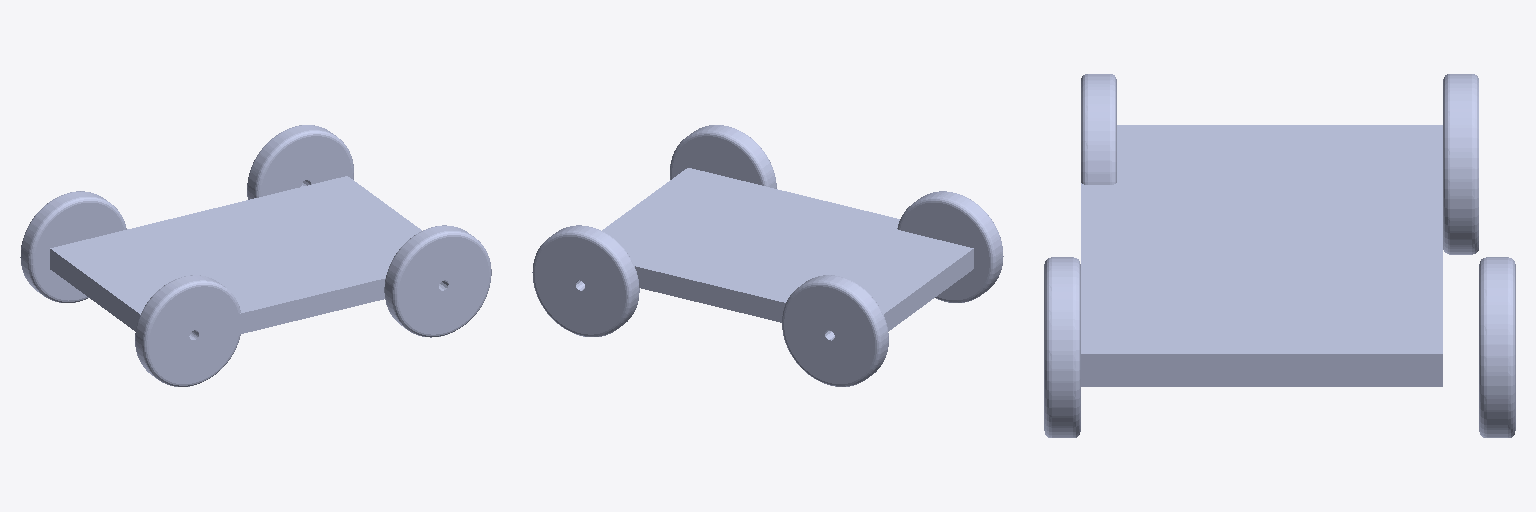
The robot description file, URDF, robot "Prototype_Assem_1":
<?xml version="1.0" encoding="utf-8"?>
<!-- This URDF was automatically created by SolidWorks to URDF Exporter! Originally created by [author] ([email redacted]) 
     Commit Version: 1.6.0-1-g15f4949  Build Version: 1.6.7594.29634
     For more information, please see http://wiki.ros.org/sw_urdf_exporter -->
<robot
  name="Prototype_Assem_1">
  <link
    name="base_link">
    <inertial>
      <origin
        xyz="0.0633399432951817 -0.115306777162767 0.0773215092552989"
        rpy="0 0 0" />
      <mass
        value="0.146073009183013" />
      <inertia
        ixx="0.000122971371729359"
        ixy="-2.52315784573037E-20"
        ixz="-2.94043958335381E-22"
        iyy="0.000268350561212543"
        iyz="7.38276631013834E-21"
        izz="0.000388834204788205" />
    </inertial>
    <visual>
      <origin
        xyz="0 0 0"
        rpy="0 0 0" />
      <geometry>
        <mesh
          filename="package://Prototype_Assem_1/meshes/base_link.STL" />
      </geometry>
      <material
        name="">
        <color
          rgba="0.792156862745098 0.819607843137255 0.933333333333333 1" />
      </material>
    </visual>
    <collision>
      <origin
        xyz="0 0 0"
        rpy="0 0 0" />
      <geometry>
        <mesh
          filename="package://Prototype_Assem_1/meshes/base_link.STL" />
      </geometry>
    </collision>
  </link>
  <link
    name="wheel_1_link">
    <inertial>
      <origin
        xyz="-2.08166817117217E-16 0.00500000000000017 1.80411241501588E-16"
        rpy="0 0 0" />
      <mass
        value="0.0191737468916469" />
      <inertia
        ixx="3.14423074657109E-06"
        ixy="-9.90329068367178E-21"
        ixz="6.79865277851786E-36"
        iyy="5.97552557291833E-06"
        iyz="-1.88627595496748E-21"
        izz="3.14423074657109E-06" />
    </inertial>
    <visual>
      <origin
        xyz="0 0 0"
        rpy="0 0 0" />
      <geometry>
        <mesh
          filename="package://Prototype_Assem_1/meshes/wheel_1_link.STL" />
      </geometry>
      <material
        name="">
        <color
          rgba="0.792156862745098 0.819607843137255 0.933333333333333 1" />
      </material>
    </visual>
    <collision>
      <origin
        xyz="0 0 0"
        rpy="0 0 0" />
      <geometry>
        <mesh
          filename="package://Prototype_Assem_1/meshes/wheel_1_link.STL" />
      </geometry>
    </collision>
  </link>
  <joint
    name="wheel_1_"
    type="continuous">
    <origin
      xyz="0.123339943295182 -0.0553067771627669 0.0773215092552989"
      rpy="0 -1.5707963267949 0" />
    <parent
      link="base_link" />
    <child
      link="wheel_1_link" />
    <axis
      xyz="0 1 0" />
  </joint>
  <link
    name="wheel_2_link">
    <inertial>
      <origin
        xyz="-1.38777878078145E-17 -0.00500000000000014 -1.16573417585641E-15"
        rpy="0 0 0" />
      <mass
        value="0.0191737468916469" />
      <inertia
        ixx="3.14423074657109E-06"
        ixy="-3.11535924767132E-37"
        ixz="-1.98766643320901E-36"
        iyy="5.97552557291834E-06"
        iyz="2.34745597615571E-22"
        izz="3.14423074657109E-06" />
    </inertial>
    <visual>
      <origin
        xyz="0 0 0"
        rpy="0 0 0" />
      <geometry>
        <mesh
          filename="package://Prototype_Assem_1/meshes/wheel_2_link.STL" />
      </geometry>
      <material
        name="">
        <color
          rgba="0.792156862745098 0.819607843137255 0.933333333333333 1" />
      </material>
    </visual>
    <collision>
      <origin
        xyz="0 0 0"
        rpy="0 0 0" />
      <geometry>
        <mesh
          filename="package://Prototype_Assem_1/meshes/wheel_2_link.STL" />
      </geometry>
    </collision>
  </link>
  <joint
    name="wheel_2"
    type="continuous">
    <origin
      xyz="0.123339943295182 -0.165306777162768 0.0773215092552989"
      rpy="0 0 0" />
    <parent
      link="base_link" />
    <child
      link="wheel_2_link" />
    <axis
      xyz="0 1 0" />
  </joint>
  <link
    name="wheel_3_link">
    <inertial>
      <origin
        xyz="6.93889390390723E-18 0.005 0"
        rpy="0 0 0" />
      <mass
        value="0.0191737468916469" />
      <inertia
        ixx="3.14423074657109E-06"
        ixy="-1.15737129950298E-22"
        ixz="1.05879118406788E-22"
        iyy="5.97552557291833E-06"
        iyz="8.00270033642477E-23"
        izz="3.14423074657109E-06" />
    </inertial>
    <visual>
      <origin
        xyz="0 0 0"
        rpy="0 0 0" />
      <geometry>
        <mesh
          filename="package://Prototype_Assem_1/meshes/wheel_3_link.STL" />
      </geometry>
      <material
        name="">
        <color
          rgba="0.792156862745098 0.819607843137255 0.933333333333333 1" />
      </material>
    </visual>
    <collision>
      <origin
        xyz="0 0 0"
        rpy="0 0 0" />
      <geometry>
        <mesh
          filename="package://Prototype_Assem_1/meshes/wheel_3_link.STL" />
      </geometry>
    </collision>
  </link>
  <joint
    name="wheel_3_"
    type="continuous">
    <origin
      xyz="0.0033399432951817 -0.0553067771627673 0.0773215092552989"
      rpy="0 -0.60300839646753 3.14159265358979" />
    <parent
      link="base_link" />
    <child
      link="wheel_3_link" />
    <axis
      xyz="0 1 0" />
  </joint>
  <link
    name="wheel_4_link">
    <inertial>
      <origin
        xyz="-6.10622663543836E-16 0.00500000000000014 5.77662917500277E-16"
        rpy="0 0 0" />
      <mass
        value="0.0191737468916469" />
      <inertia
        ixx="3.14423074657109E-06"
        ixy="-9.90329068367179E-21"
        ixz="4.67095572026756E-37"
        iyy="5.97552557291834E-06"
        iyz="-1.1586282522982E-22"
        izz="3.14423074657109E-06" />
    </inertial>
    <visual>
      <origin
        xyz="0 0 0"
        rpy="0 0 0" />
      <geometry>
        <mesh
          filename="package://Prototype_Assem_1/meshes/wheel_4_link.STL" />
      </geometry>
      <material
        name="">
        <color
          rgba="0.792156862745098 0.819607843137255 0.933333333333333 1" />
      </material>
    </visual>
    <collision>
      <origin
        xyz="0 0 0"
        rpy="0 0 0" />
      <geometry>
        <mesh
          filename="package://Prototype_Assem_1/meshes/wheel_4_link.STL" />
      </geometry>
    </collision>
  </link>
  <joint
    name="wheel_4"
    type="continuous">
    <origin
      xyz="0.0033399432951817 -0.165306777162767 0.0773215092552989"
      rpy="0 -1.5707963267949 0" />
    <parent
      link="base_link" />
    <child
      link="wheel_4_link" />
    <axis
      xyz="0 1 0" />
  </joint>
</robot>

--- Facts derived from the render (not from the file) ---
3 views of the same robot in one strip: view 1: azimuth 30°, elevation 25°; view 2: azimuth 150°, elevation 25°; view 3: azimuth 270°, elevation 25° (orthographic).
Robot: Prototype_Assem_1 — 5 links, 4 joints (4 continuous); root link base_link; default pose: every joint at zero.
Links seen in each view (by area): view 1: base_link, wheel_2_link, wheel_4_link, wheel_3_link, wheel_1_link; view 2: base_link, wheel_1_link, wheel_3_link, wheel_4_link, wheel_2_link; view 3: base_link, wheel_1_link, wheel_2_link, wheel_3_link, wheel_4_link.
Link boxes in pixels (bbox=[...]): base_link: bbox=[50, 176, 421, 352]; wheel_2_link: bbox=[384, 225, 491, 337]; wheel_4_link: bbox=[135, 275, 240, 386]; wheel_3_link: bbox=[20, 191, 126, 302]; wheel_1_link: bbox=[247, 125, 353, 199]; base_link: bbox=[602, 168, 973, 331]; wheel_1_link: bbox=[532, 225, 639, 336]; wheel_3_link: bbox=[782, 275, 888, 386]; wheel_4_link: bbox=[897, 191, 1003, 302]; wheel_2_link: bbox=[670, 125, 776, 188]; base_link: bbox=[1081, 125, 1442, 386]; wheel_1_link: bbox=[1479, 257, 1515, 437]; wheel_2_link: bbox=[1044, 257, 1080, 437]; wheel_3_link: bbox=[1443, 74, 1478, 254]; wheel_4_link: bbox=[1081, 74, 1116, 184].
Bounding box of the posed robot: 0.17 × 0.13 × 0.05 m (x, y, z).
5 mesh visuals loaded from 5 distinct referenced files (5 binary STL).